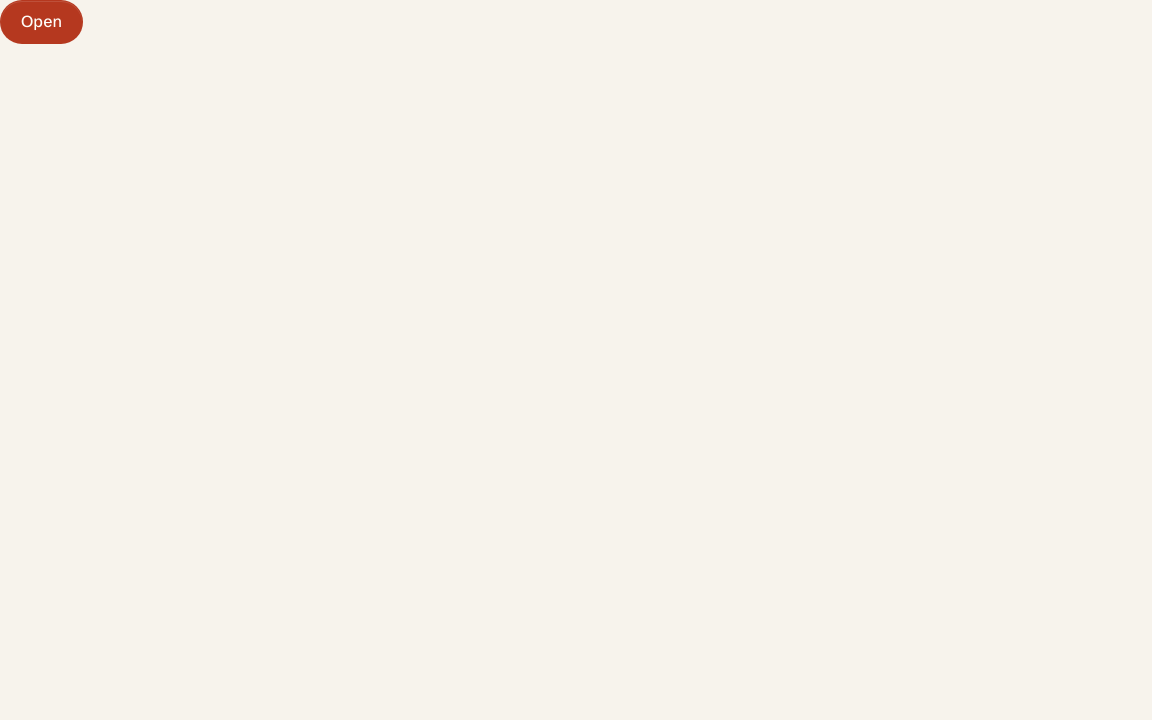
Dialog › closes with Escape and returns focus to the button that opened it
Click the button "Open".
click(42, 22)  # box [0,0,83,44]
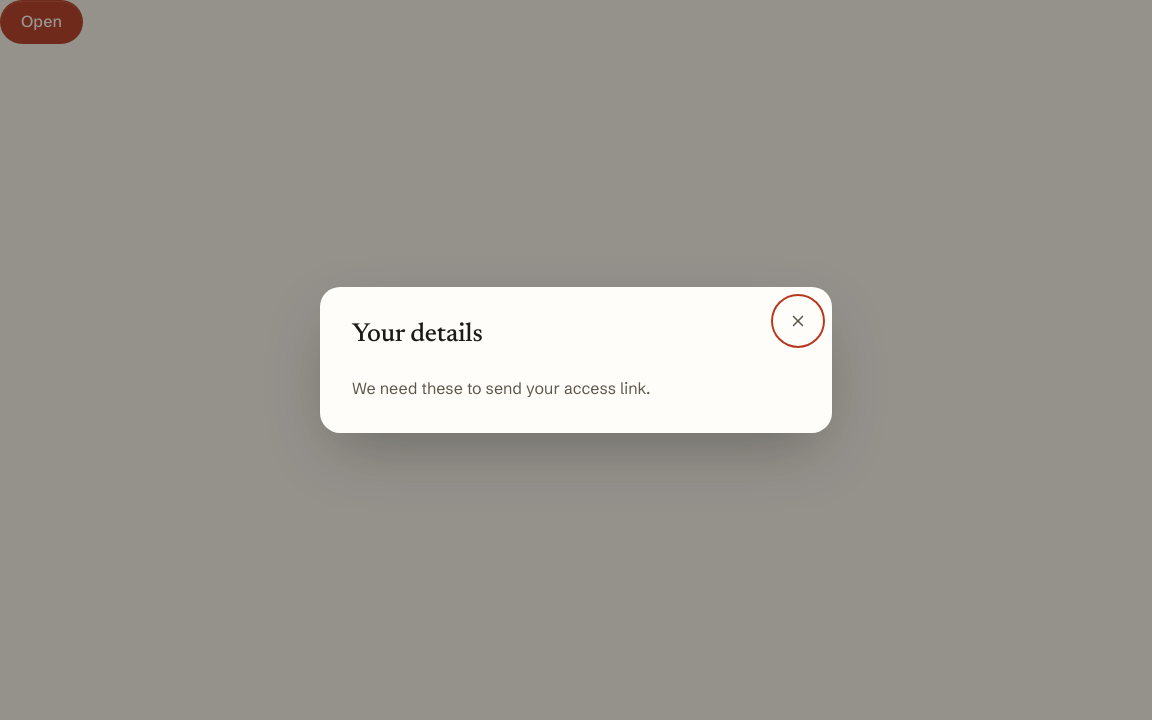
Now the dialog is shown, box [320,287,832,433]
Press Escape
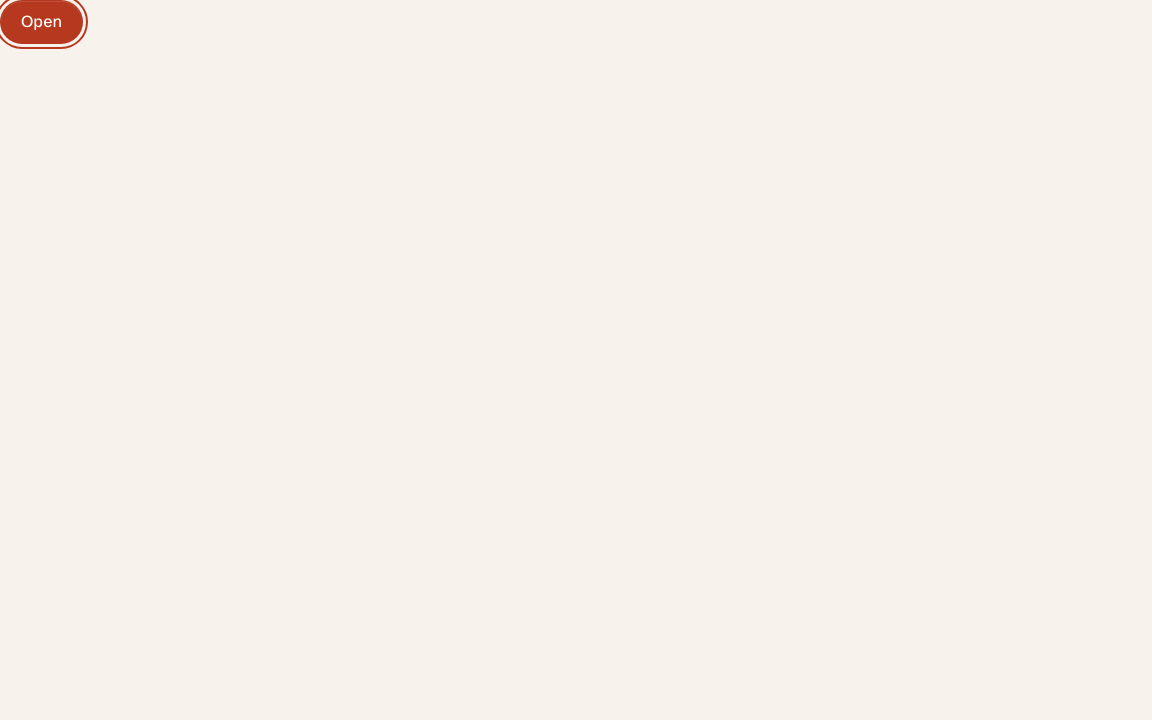
Now the dialog is gone
